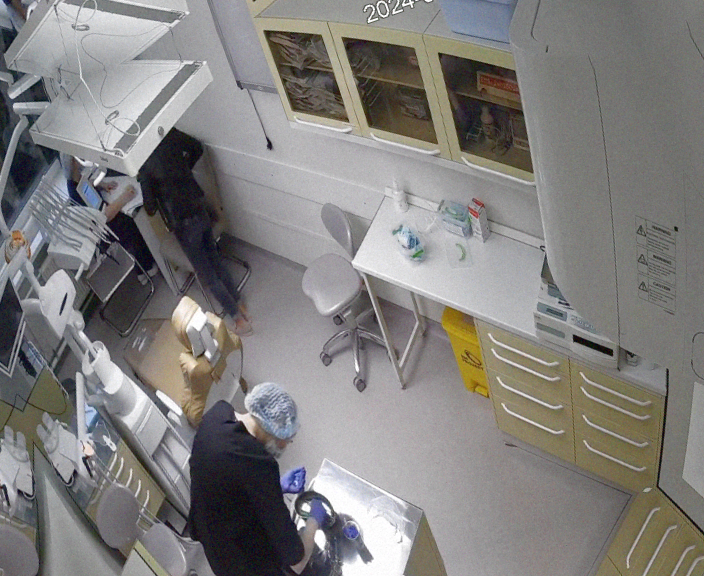Empty: (100, 279, 265, 446)
